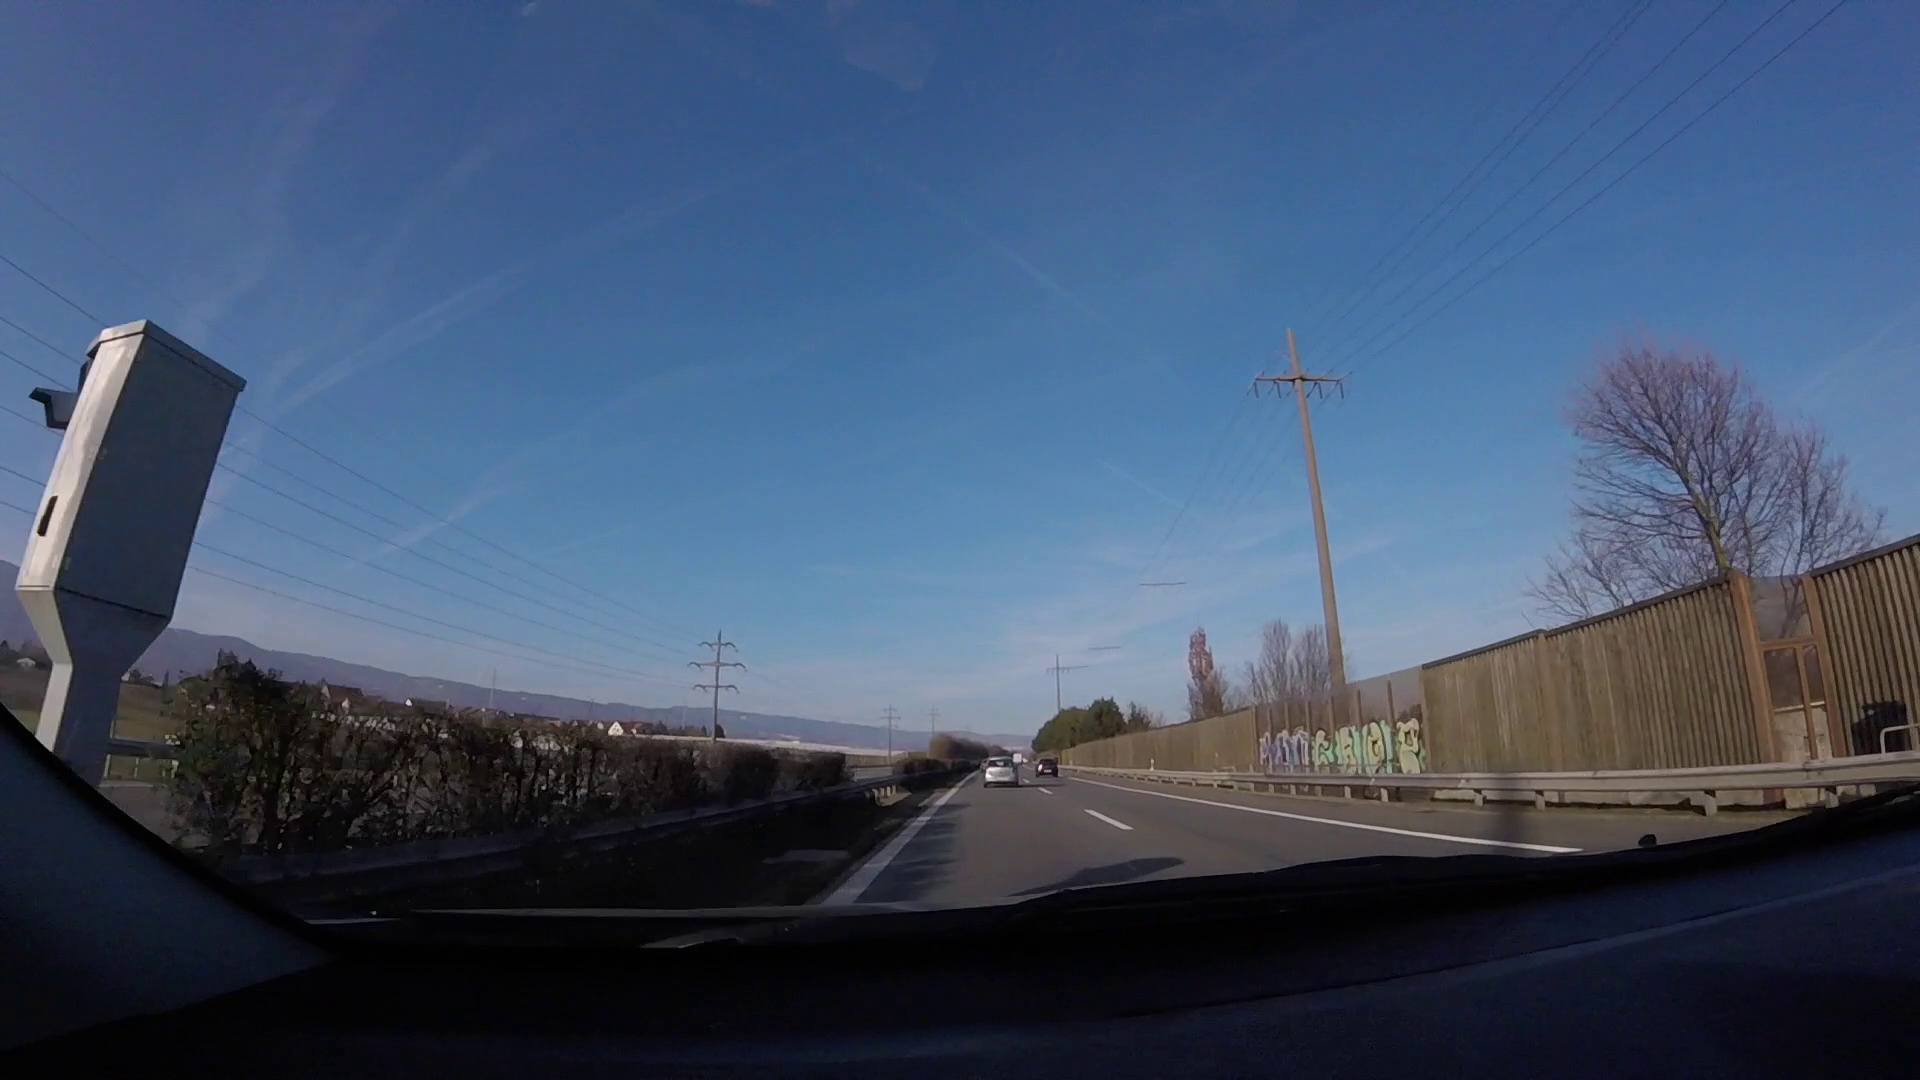radar: (22, 315, 255, 822)
